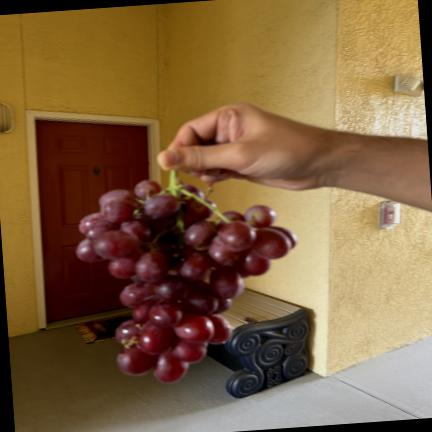grape_cluster: (75, 171, 296, 382)
